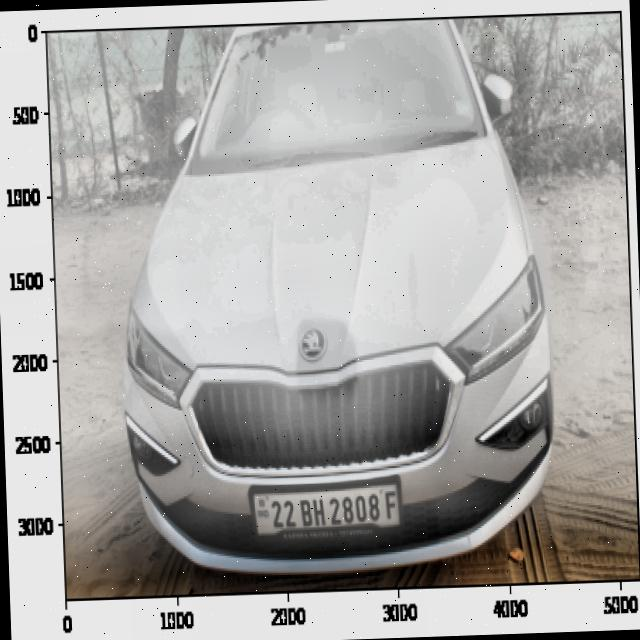license_plate: (264, 486, 402, 529)
